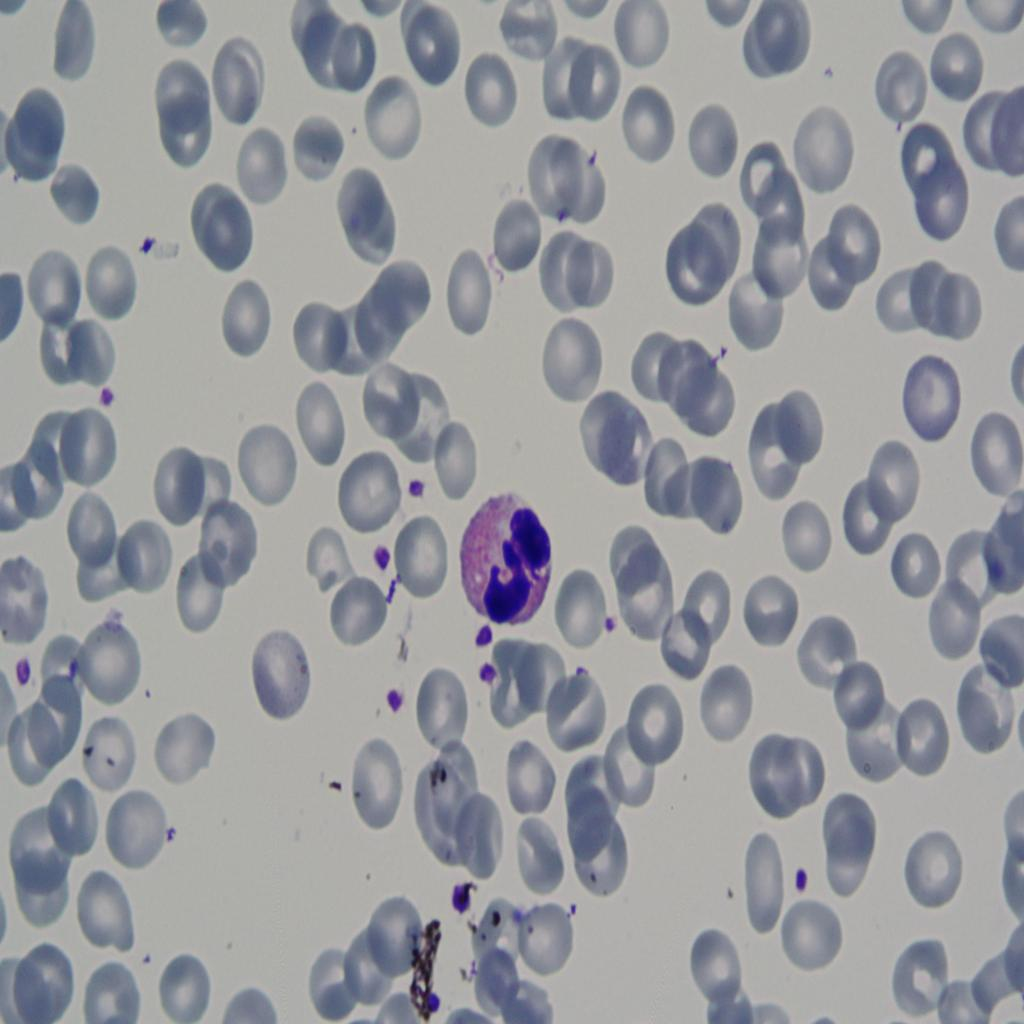Eosinofil: (452, 484, 556, 632)
Platelet: (396, 474, 434, 518), (89, 376, 123, 422), (135, 228, 165, 274), (362, 537, 395, 575), (794, 862, 820, 910), (449, 881, 477, 918), (419, 981, 450, 1014), (12, 649, 34, 693), (378, 684, 402, 720), (158, 818, 181, 855), (472, 619, 495, 652), (62, 654, 82, 688), (478, 676, 505, 701), (602, 611, 618, 641)
